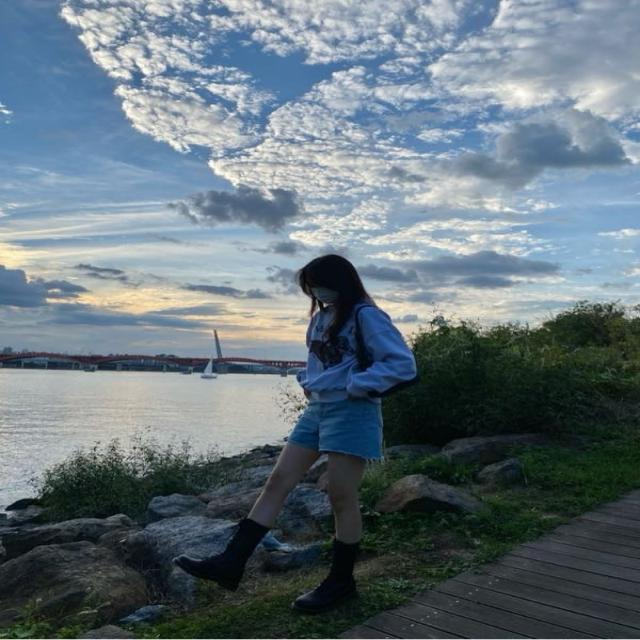mtm: (302, 304, 424, 406)
shortpants: (286, 391, 384, 462)
